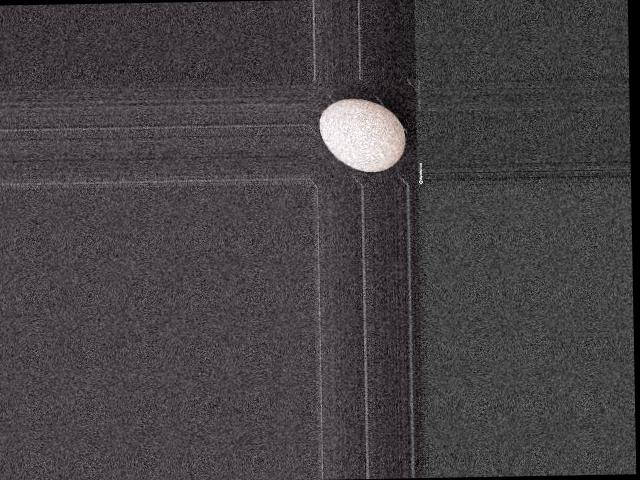egg: (319, 97, 406, 172)
